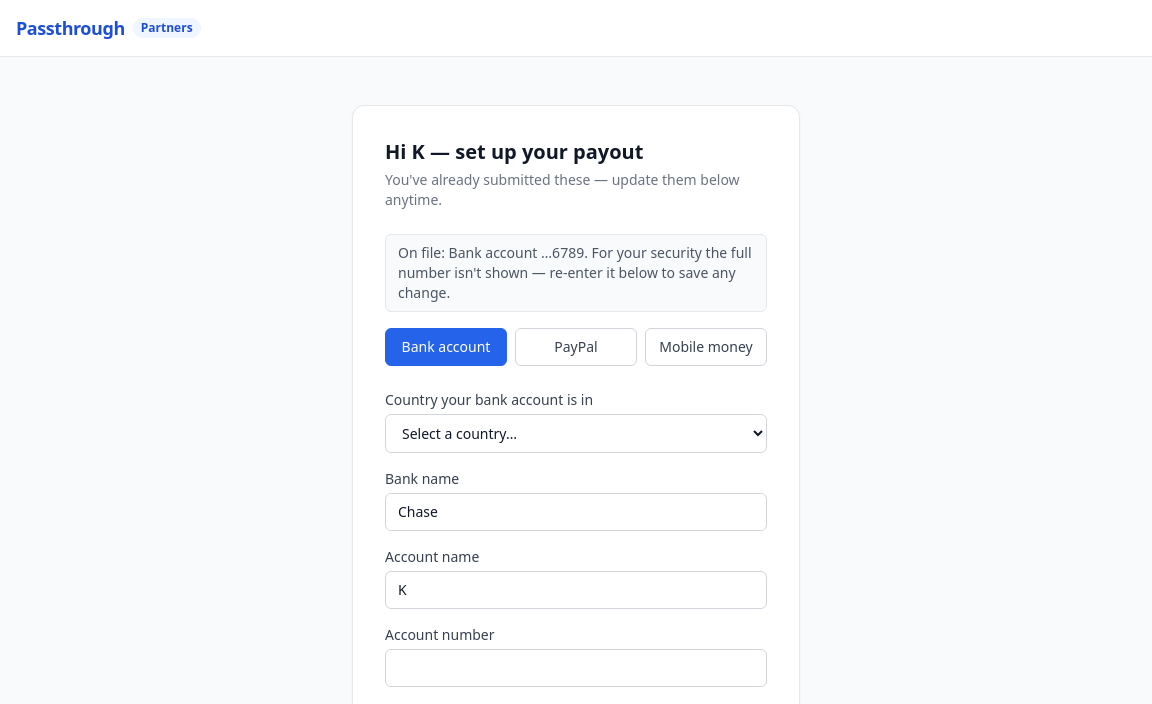
payout page: edits are not silently dropped (round 22) › a changed bank name plus a tax edit, with no number retyped, is refused — nothing is posted and no "saved" notice shows
Step 1. Replace the text in the field labelled "Bank name" with "Wells Fargo" → [576, 512], box [385, 493, 767, 531]
(page scrolled)
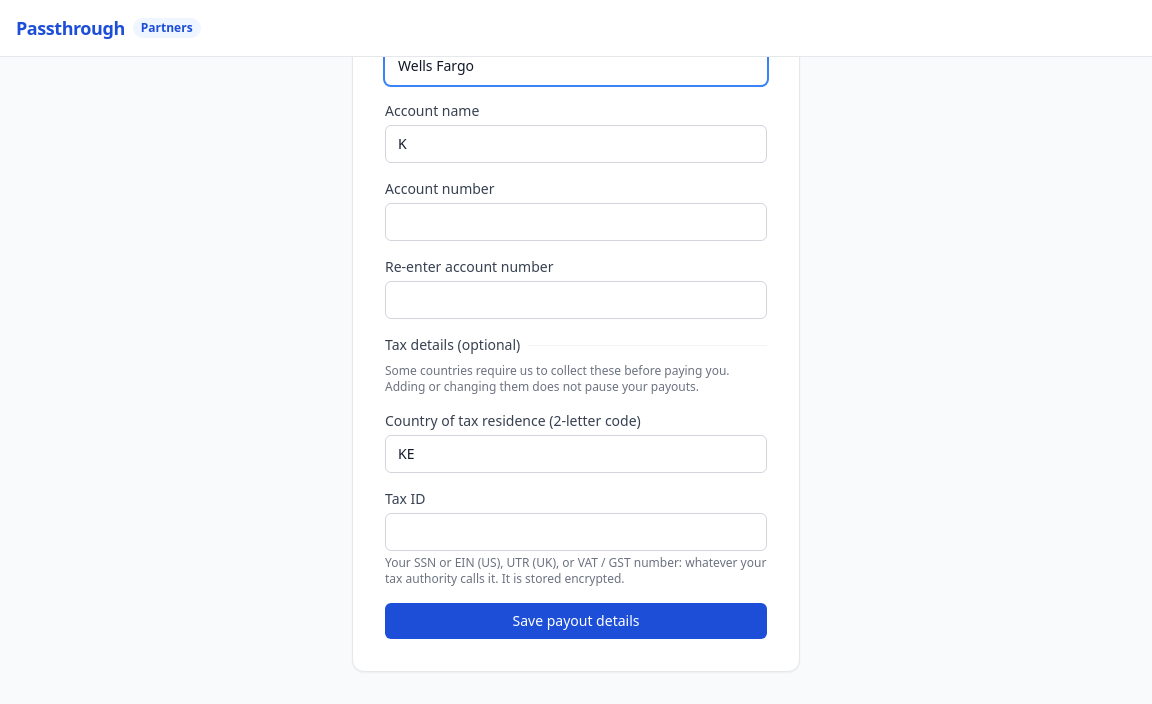
Step 2. Type "T-998877" into the field labelled "Tax ID" → [576, 532], box [385, 513, 767, 551]
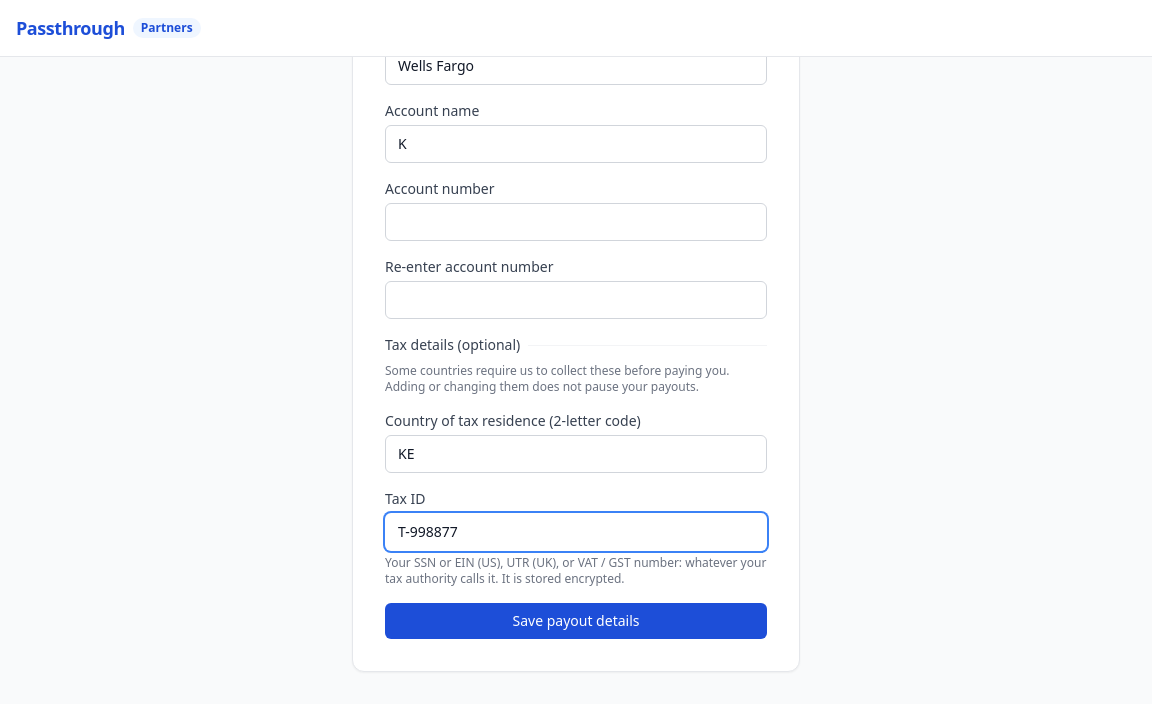
Step 3. Click the button "Save payout details" → [576, 621], box [385, 603, 767, 639]
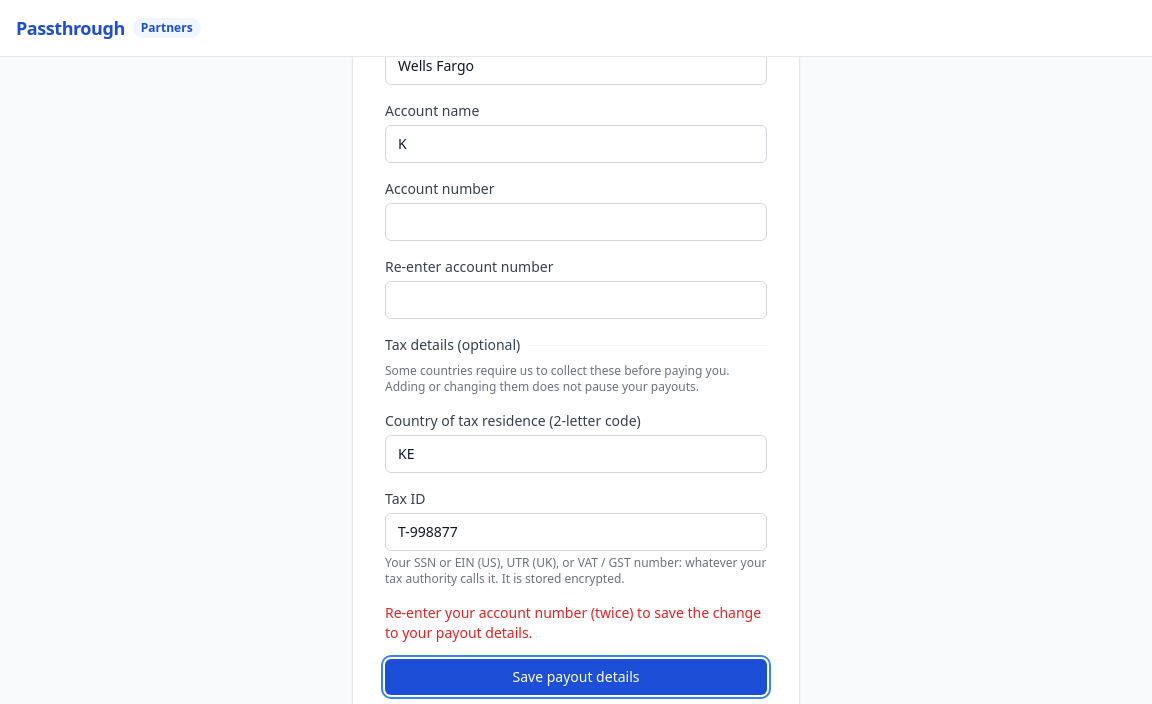
Expected: the text "Re-enter your account number" is shown, [385, 603, 761, 642]
